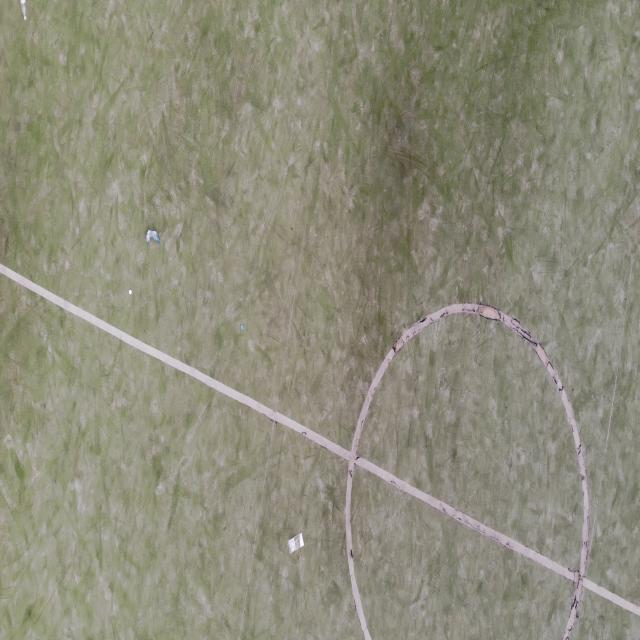rubbish: (287, 532, 306, 556), (145, 229, 160, 241), (20, 0, 27, 24), (128, 289, 131, 295), (241, 326, 243, 329)
